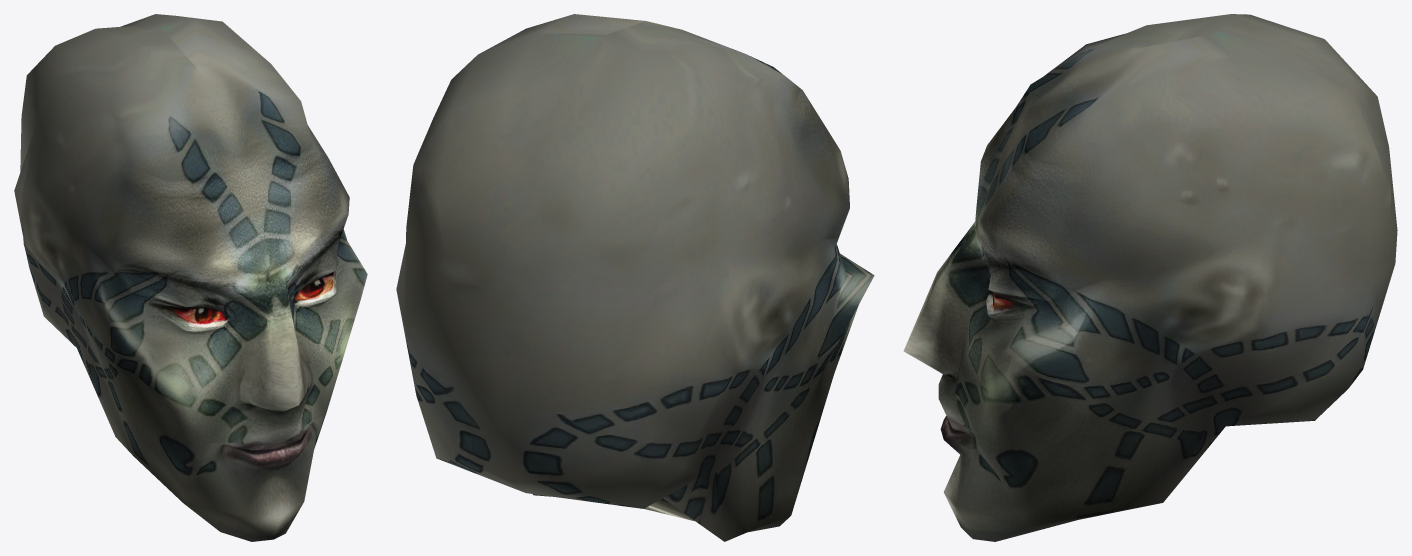
Rendered from b_n_dark elf_m_head_06.glb.
3 views of the same model, side by side, from view 1: azimuth 30°, elevation 25°; view 2: azimuth 150°, elevation 25°; view 3: azimuth 270°, elevation 25° (orthographic). The views are drawn at different scales.
Parts seen in each view (by area): view 1: Tri B_N_Dark Elf_M_Head_06; view 2: Tri B_N_Dark Elf_M_Head_06; view 3: Tri B_N_Dark Elf_M_Head_06.
Part boxes in pixels (x1=…): Tri B_N_Dark Elf_M_Head_06: x1=14, y1=14, x2=367, y2=541; Tri B_N_Dark Elf_M_Head_06: x1=396, y1=14, x2=874, y2=541; Tri B_N_Dark Elf_M_Head_06: x1=903, y1=14, x2=1397, y2=541.
Size of the model in its own units: 0.093 by 0.1577 by 0.1421.
Materials: 1 (1 with a texture image).
